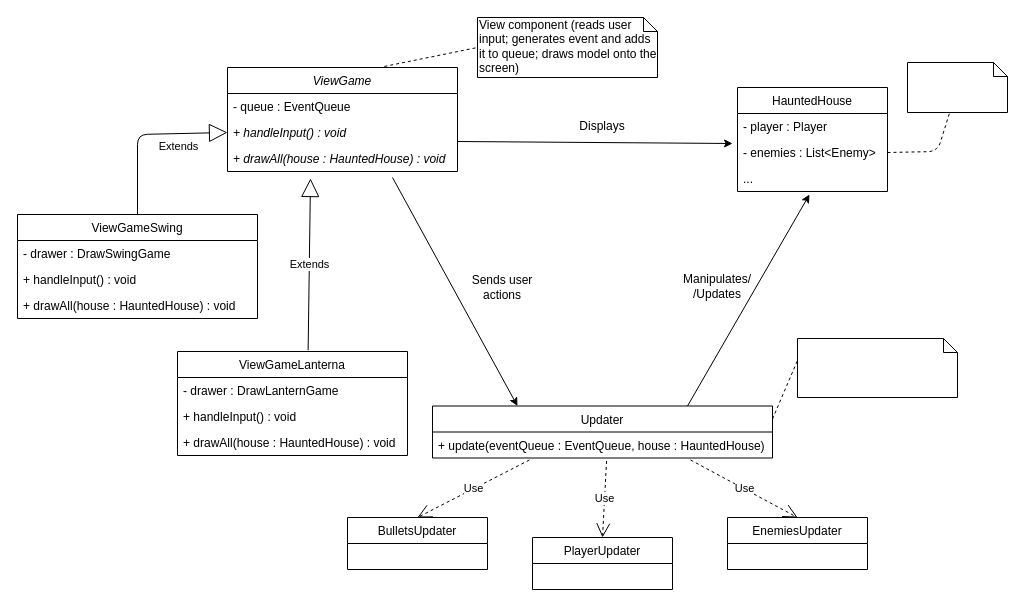
The diagram is 1025 pixels wide and 607 high, and some of its shapes have lost their labels. The shapes that lost their labels are listed below. From the top down, each one's centre as x and y in pixels, then its label:
the point at 957,87: Model; only represents the data
the point at 877,368: Controller; receives event queue and Model; updates the Model's current state
